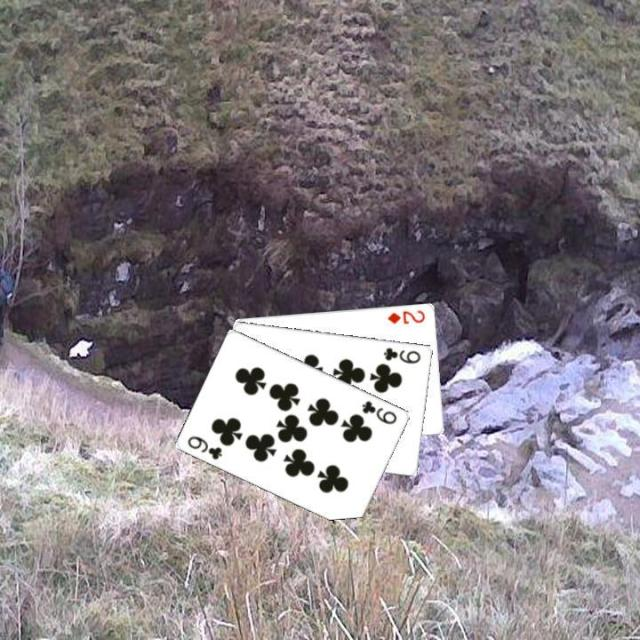2D: (384, 306, 427, 325)
9C: (358, 396, 399, 426), (184, 432, 224, 461), (380, 343, 422, 365)
